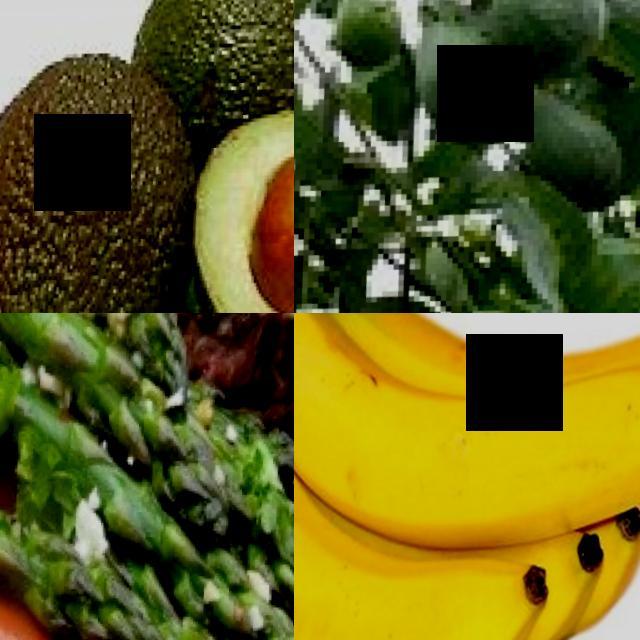asparagus: (85, 408, 247, 536), (0, 568, 190, 640)
avocado: (0, 34, 220, 313), (117, 0, 294, 194), (150, 92, 294, 313), (497, 69, 640, 245), (400, 5, 524, 161), (470, 0, 625, 102), (318, 0, 413, 84)
banana: (294, 313, 640, 640)
